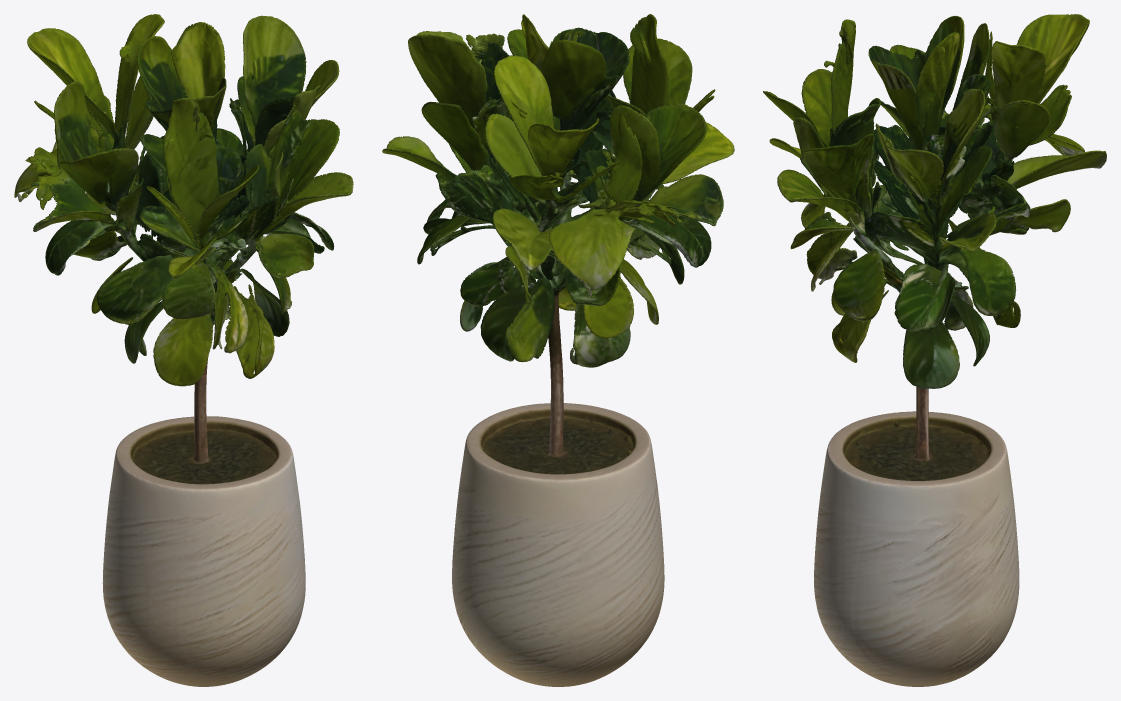
The model's file is 123_Original_10.glb.
3 views of the same model, side by side, from view 1: azimuth 30°, elevation 25°; view 2: azimuth 150°, elevation 25°; view 3: azimuth 270°, elevation 25° (orthographic). The views are drawn at different scales.
Parts seen in each view (by area): view 1: tripo_node_c31eae1d-7e49-471b-afca-08c8db4bc82a; view 2: tripo_node_c31eae1d-7e49-471b-afca-08c8db4bc82a; view 3: tripo_node_c31eae1d-7e49-471b-afca-08c8db4bc82a.
Boxes of the visible parts, x1=… form: tripo_node_c31eae1d-7e49-471b-afca-08c8db4bc82a: x1=14, y1=14, x2=353, y2=686; tripo_node_c31eae1d-7e49-471b-afca-08c8db4bc82a: x1=382, y1=14, x2=734, y2=686; tripo_node_c31eae1d-7e49-471b-afca-08c8db4bc82a: x1=763, y1=14, x2=1106, y2=686.
Size of the model in its own units: 0.4981 by 1 by 0.4828.
Materials: 1 (1 with a texture image).
